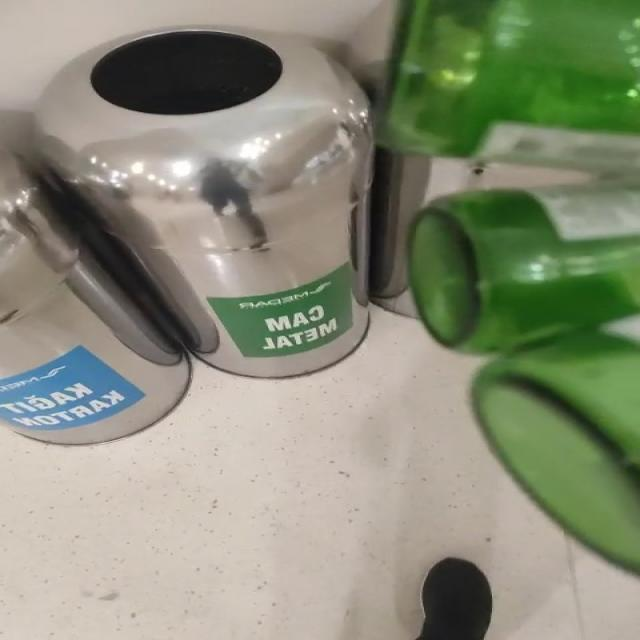glass: (381, 0, 640, 572)
